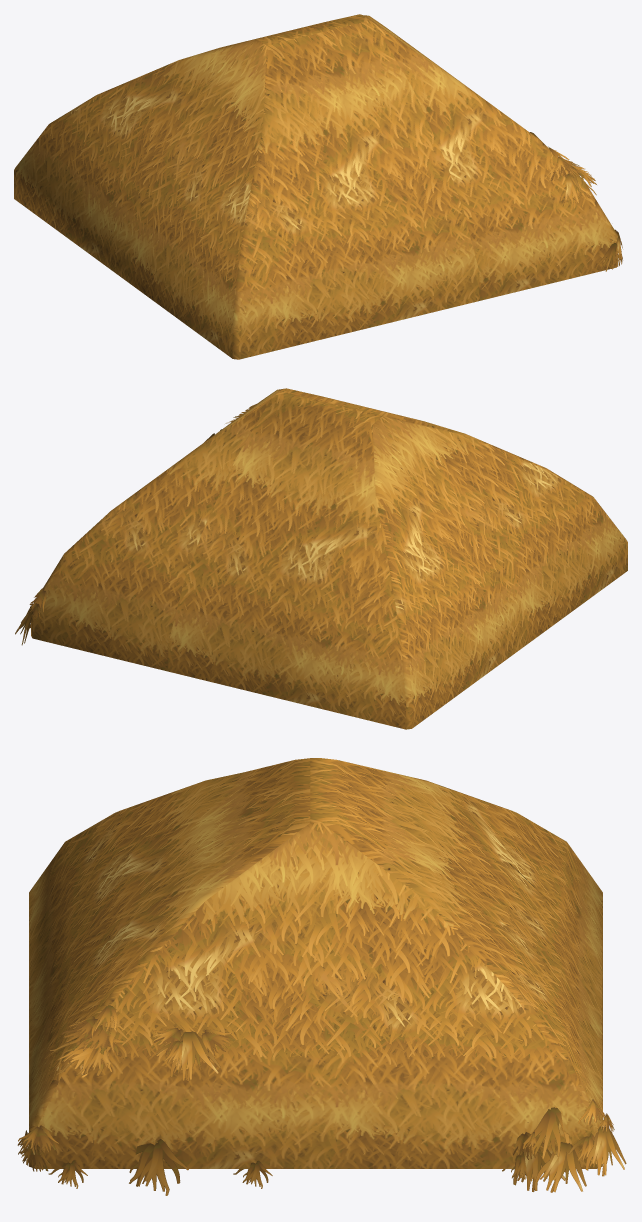
File: SquareBaseHouserRoofSmall.fbx
3 renders of one model, top to bottom at view 1: azimuth 30°, elevation 25°; view 2: azimuth 150°, elevation 25°; view 3: azimuth 270°, elevation 25°, orthographic. The views are drawn at different scales.
Visible parts, largest first — view 1: Cube.054, StrawCard.016; view 2: Cube.054, StrawCard.016; view 3: Cube.054, StrawCard.016.
Boxes of the visible parts, box(x1,y1,x2,y2) form: Cube.054: box(14, 14, 618, 359); StrawCard.016: box(530, 132, 622, 271); Cube.054: box(31, 388, 627, 729); StrawCard.016: box(15, 404, 256, 645); Cube.054: box(29, 758, 602, 1168); StrawCard.016: box(17, 1005, 626, 1195).
Size of the model in its own units: 27.47 by 14.74 by 28.04.
